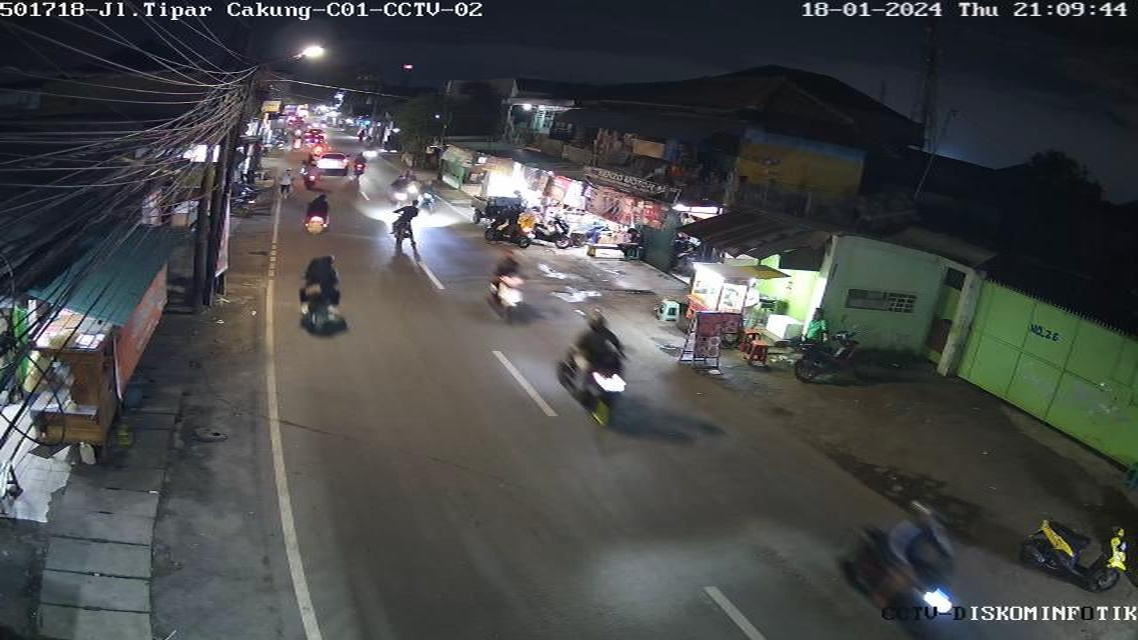Gerobak: (34, 297, 156, 462), (661, 240, 754, 373), (467, 160, 532, 225)
